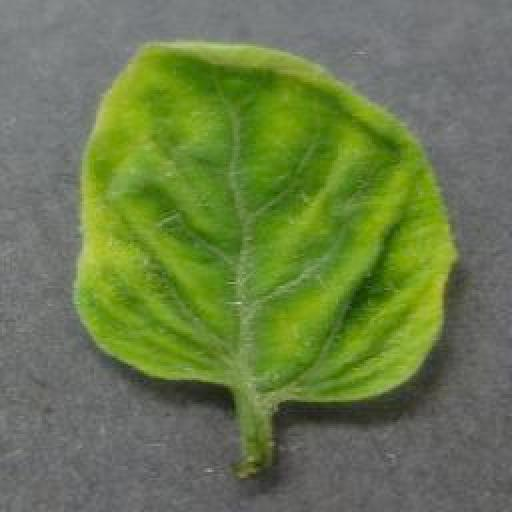disease_tomato: (78, 40, 462, 406)
